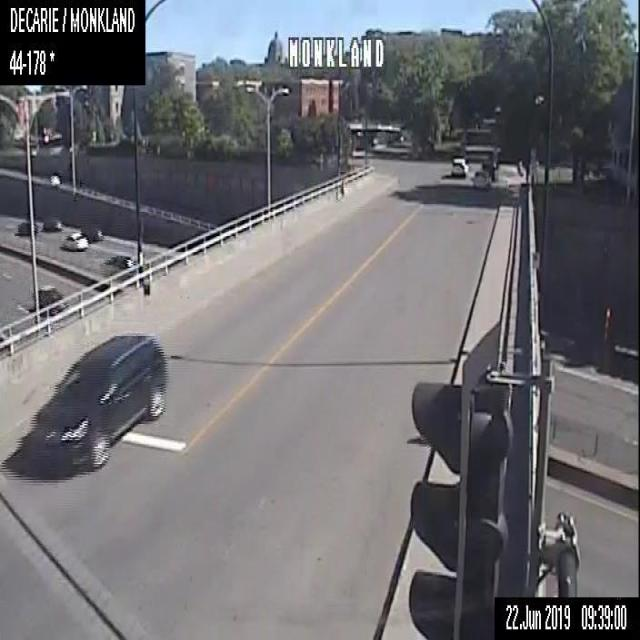vehicle: (26, 332, 166, 471), (38, 283, 66, 308), (62, 230, 88, 250), (448, 156, 468, 180), (470, 170, 491, 189), (480, 159, 498, 181), (16, 217, 36, 236), (41, 213, 61, 231), (112, 252, 134, 268), (81, 223, 101, 240), (48, 173, 61, 184)
